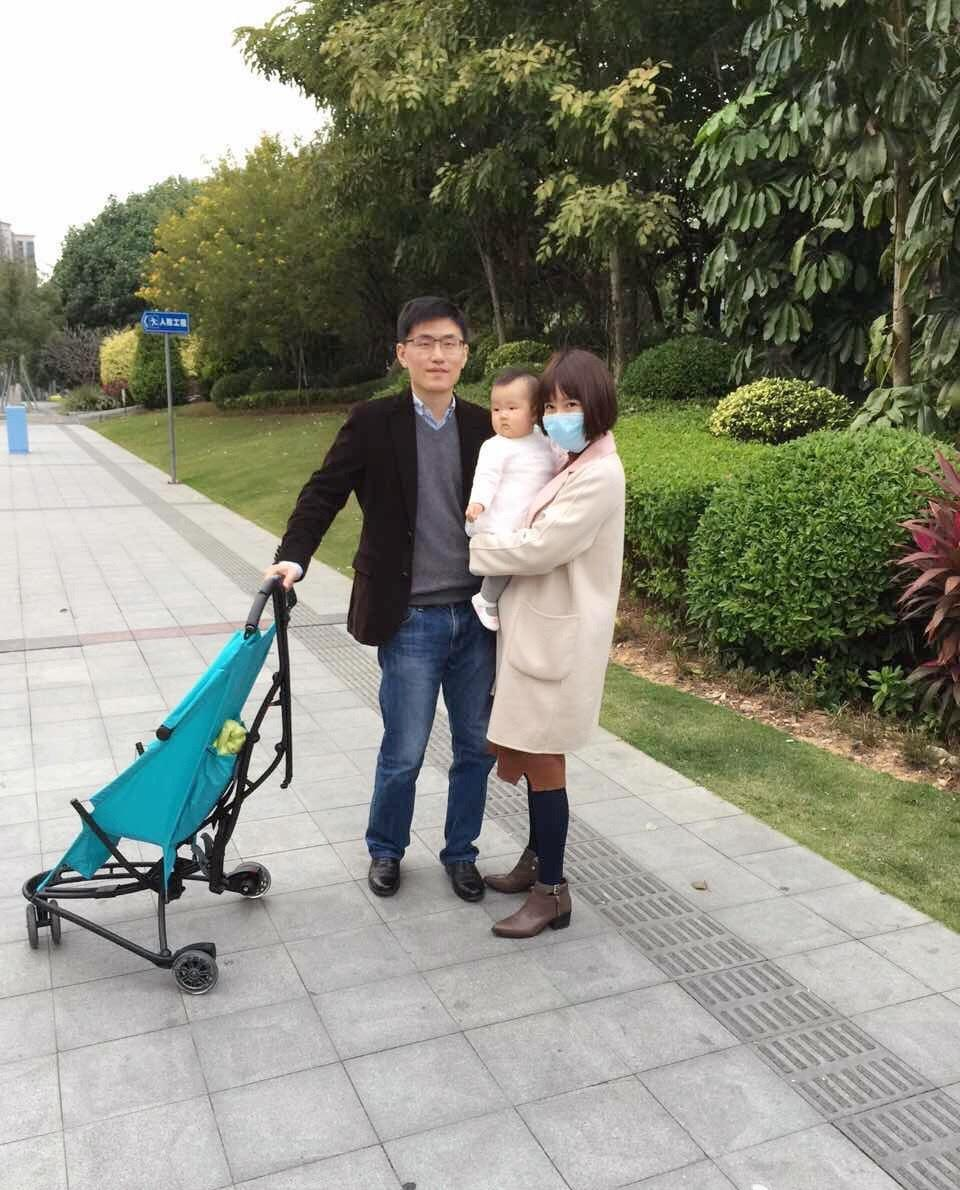NONE: (411, 332, 463, 387), (492, 400, 530, 439)
OK: (547, 391, 610, 454)
